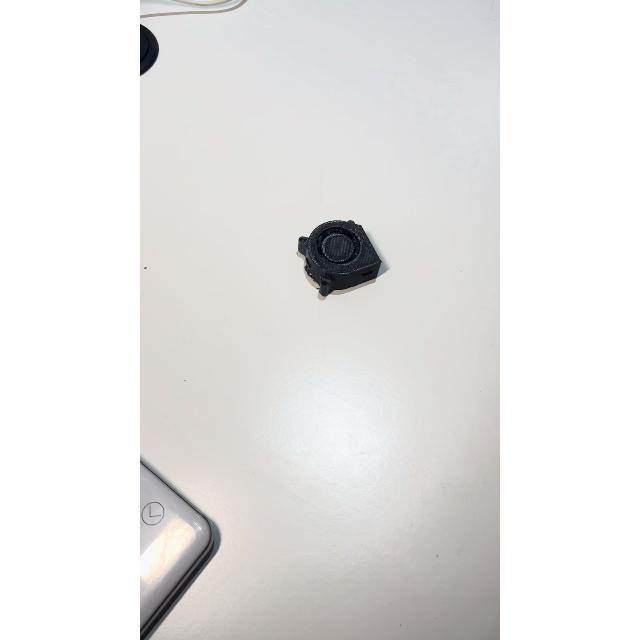Pieza3: (288, 210, 398, 306)
